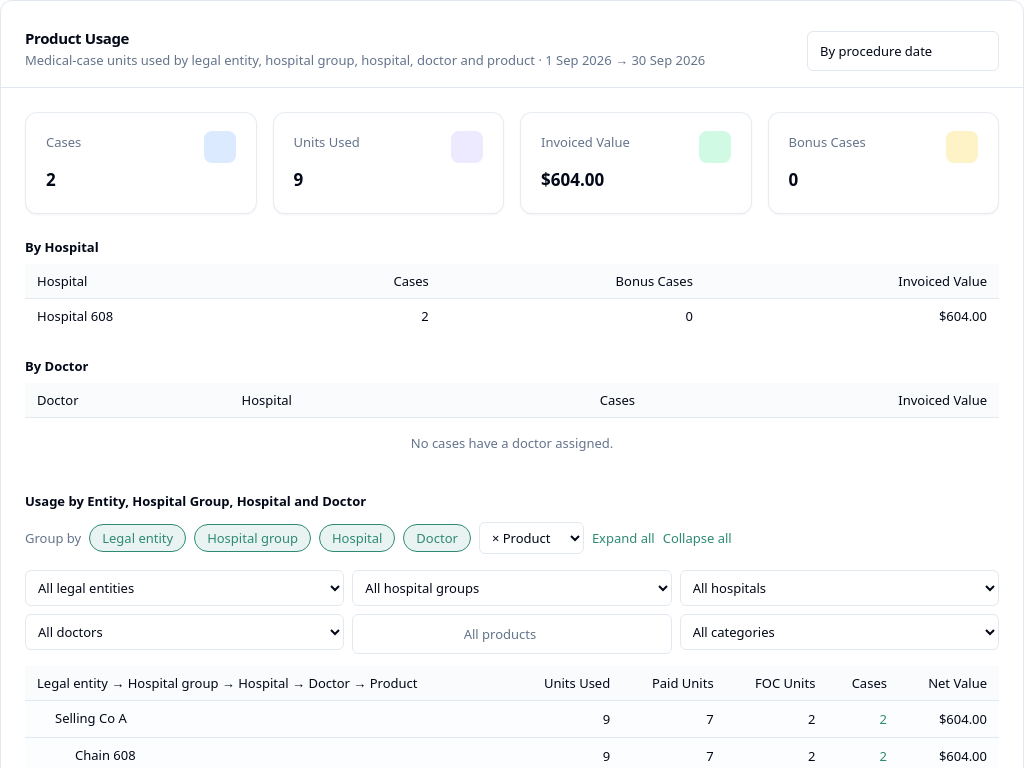
it: ProductUsageView pivot (#608) › filters the pivot by doctor
The width and height of the screenshot is (1024, 768).
Select "Dr. Usage" in the dropdown named "Filter by doctor": (185, 632) [25,614,344,650]
(page scrolled)
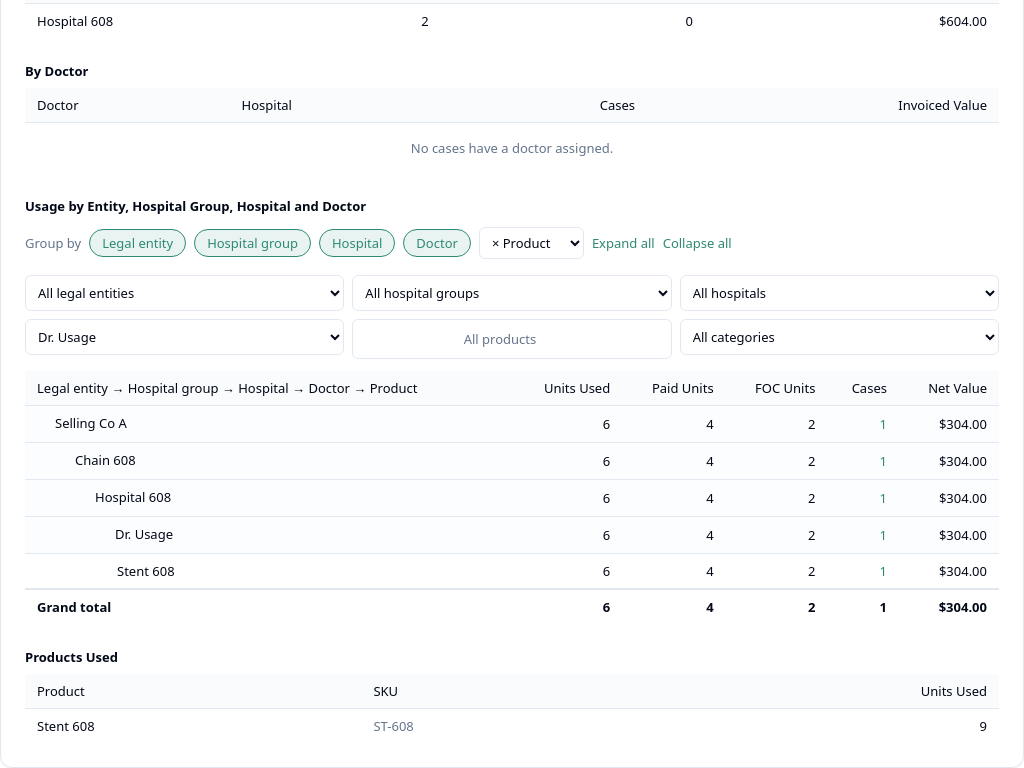
Now the cell "6" in the row of "Grand total" is shown, box [603,598,610,616]
